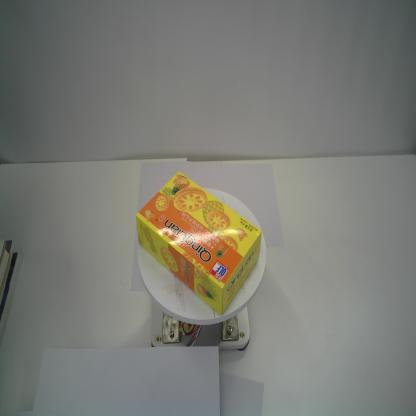Dessert: (136, 171, 262, 316)
